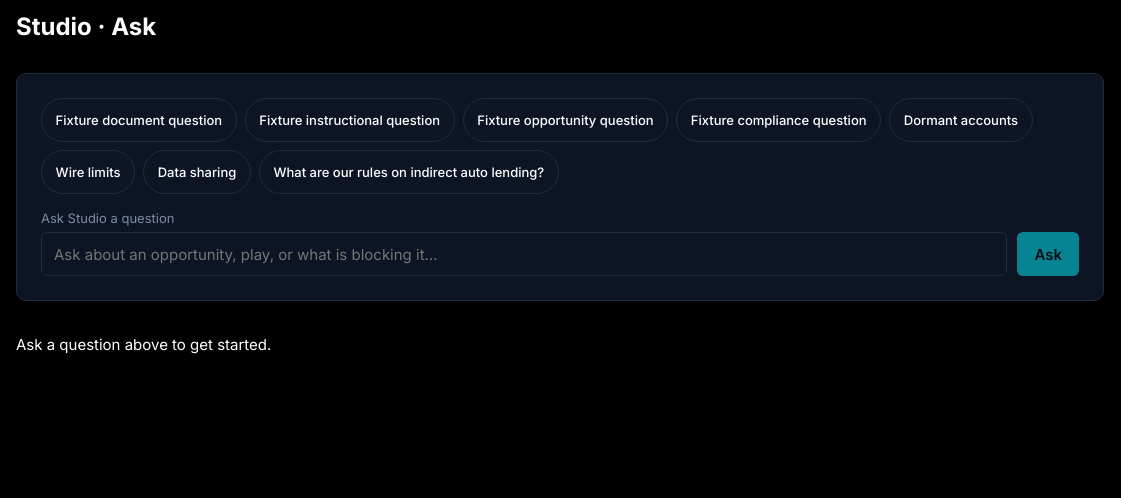
it: AC-A20-4 — single-turn canvas › after two sequential Ask submissions, the canvas contains exactly one turn's rendered content at a time
This screenshot has width=1121, height=498.
Type "Fixture document question" into the field labelled "Ask Studio a question" at point(524, 254), box [41,232,1007,276]
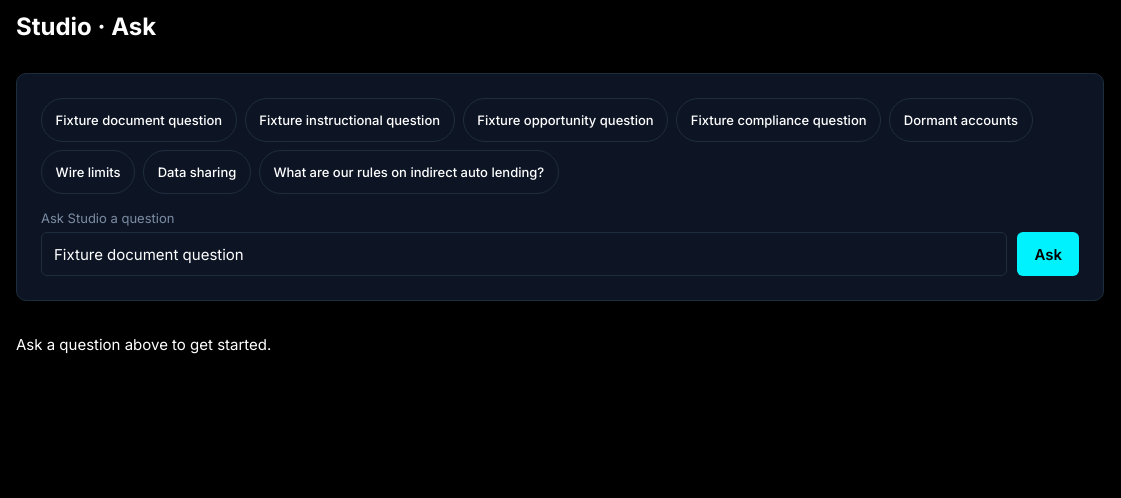
Click the button "Ask" at point(1048, 254), box [1017,232,1079,276]
Wait 800 ms
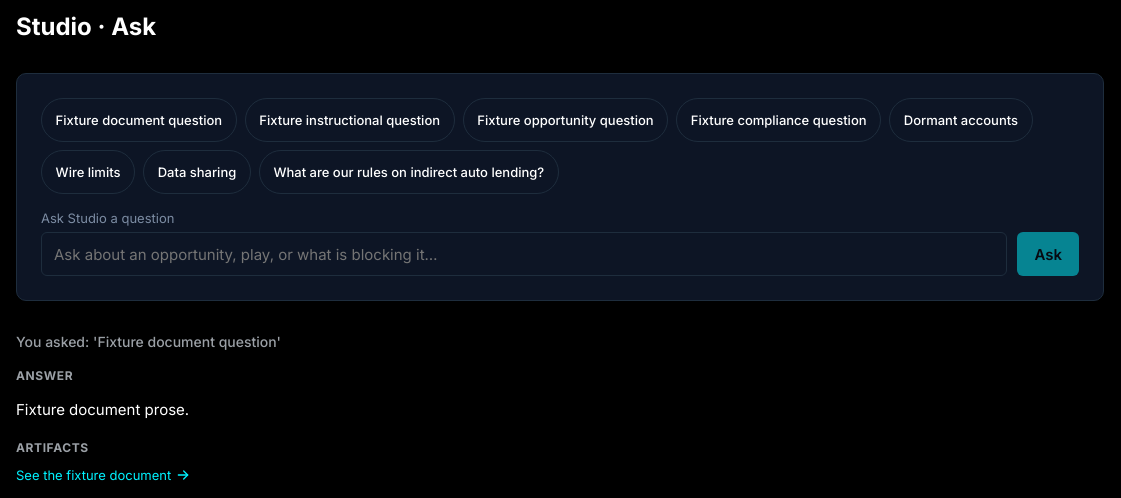
Expected: the text "Fixture document prose." is shown, [16,400,189,419]
Type "Fixture instructional question" into the field labelled "Ask Studio a question" at point(524, 254), box [41,232,1007,276]
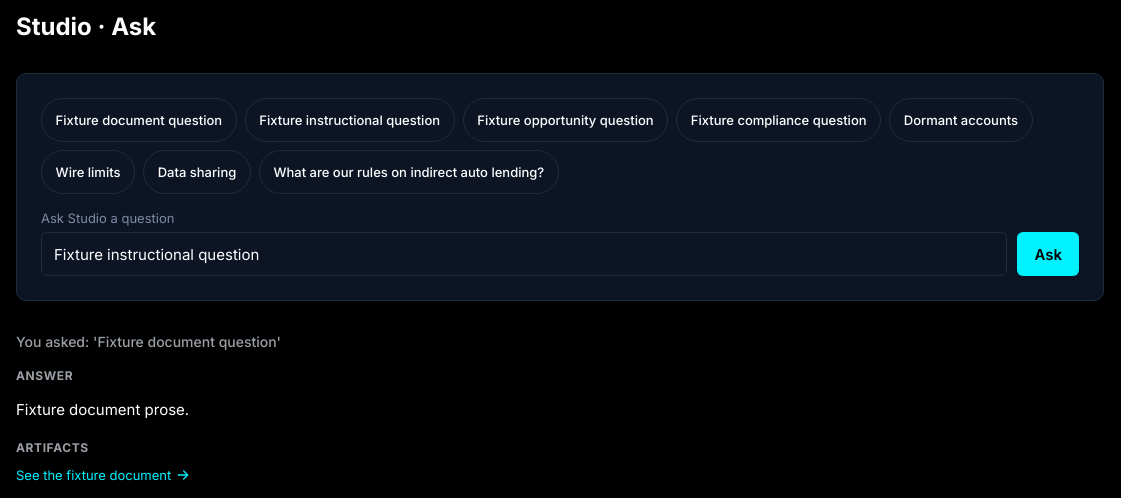
Click the button "Ask" at point(1048, 254), box [1017,232,1079,276]
Wait 800 ms
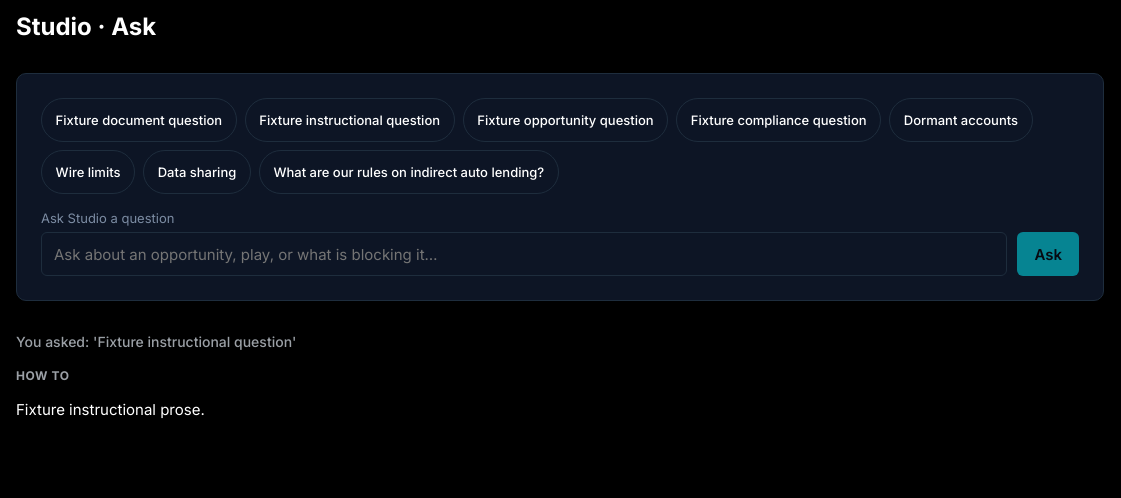
Expected: the text "Fixture document prose." is gone
Expected: the text "Fixture instructional prose." is shown, [16,400,205,419]
